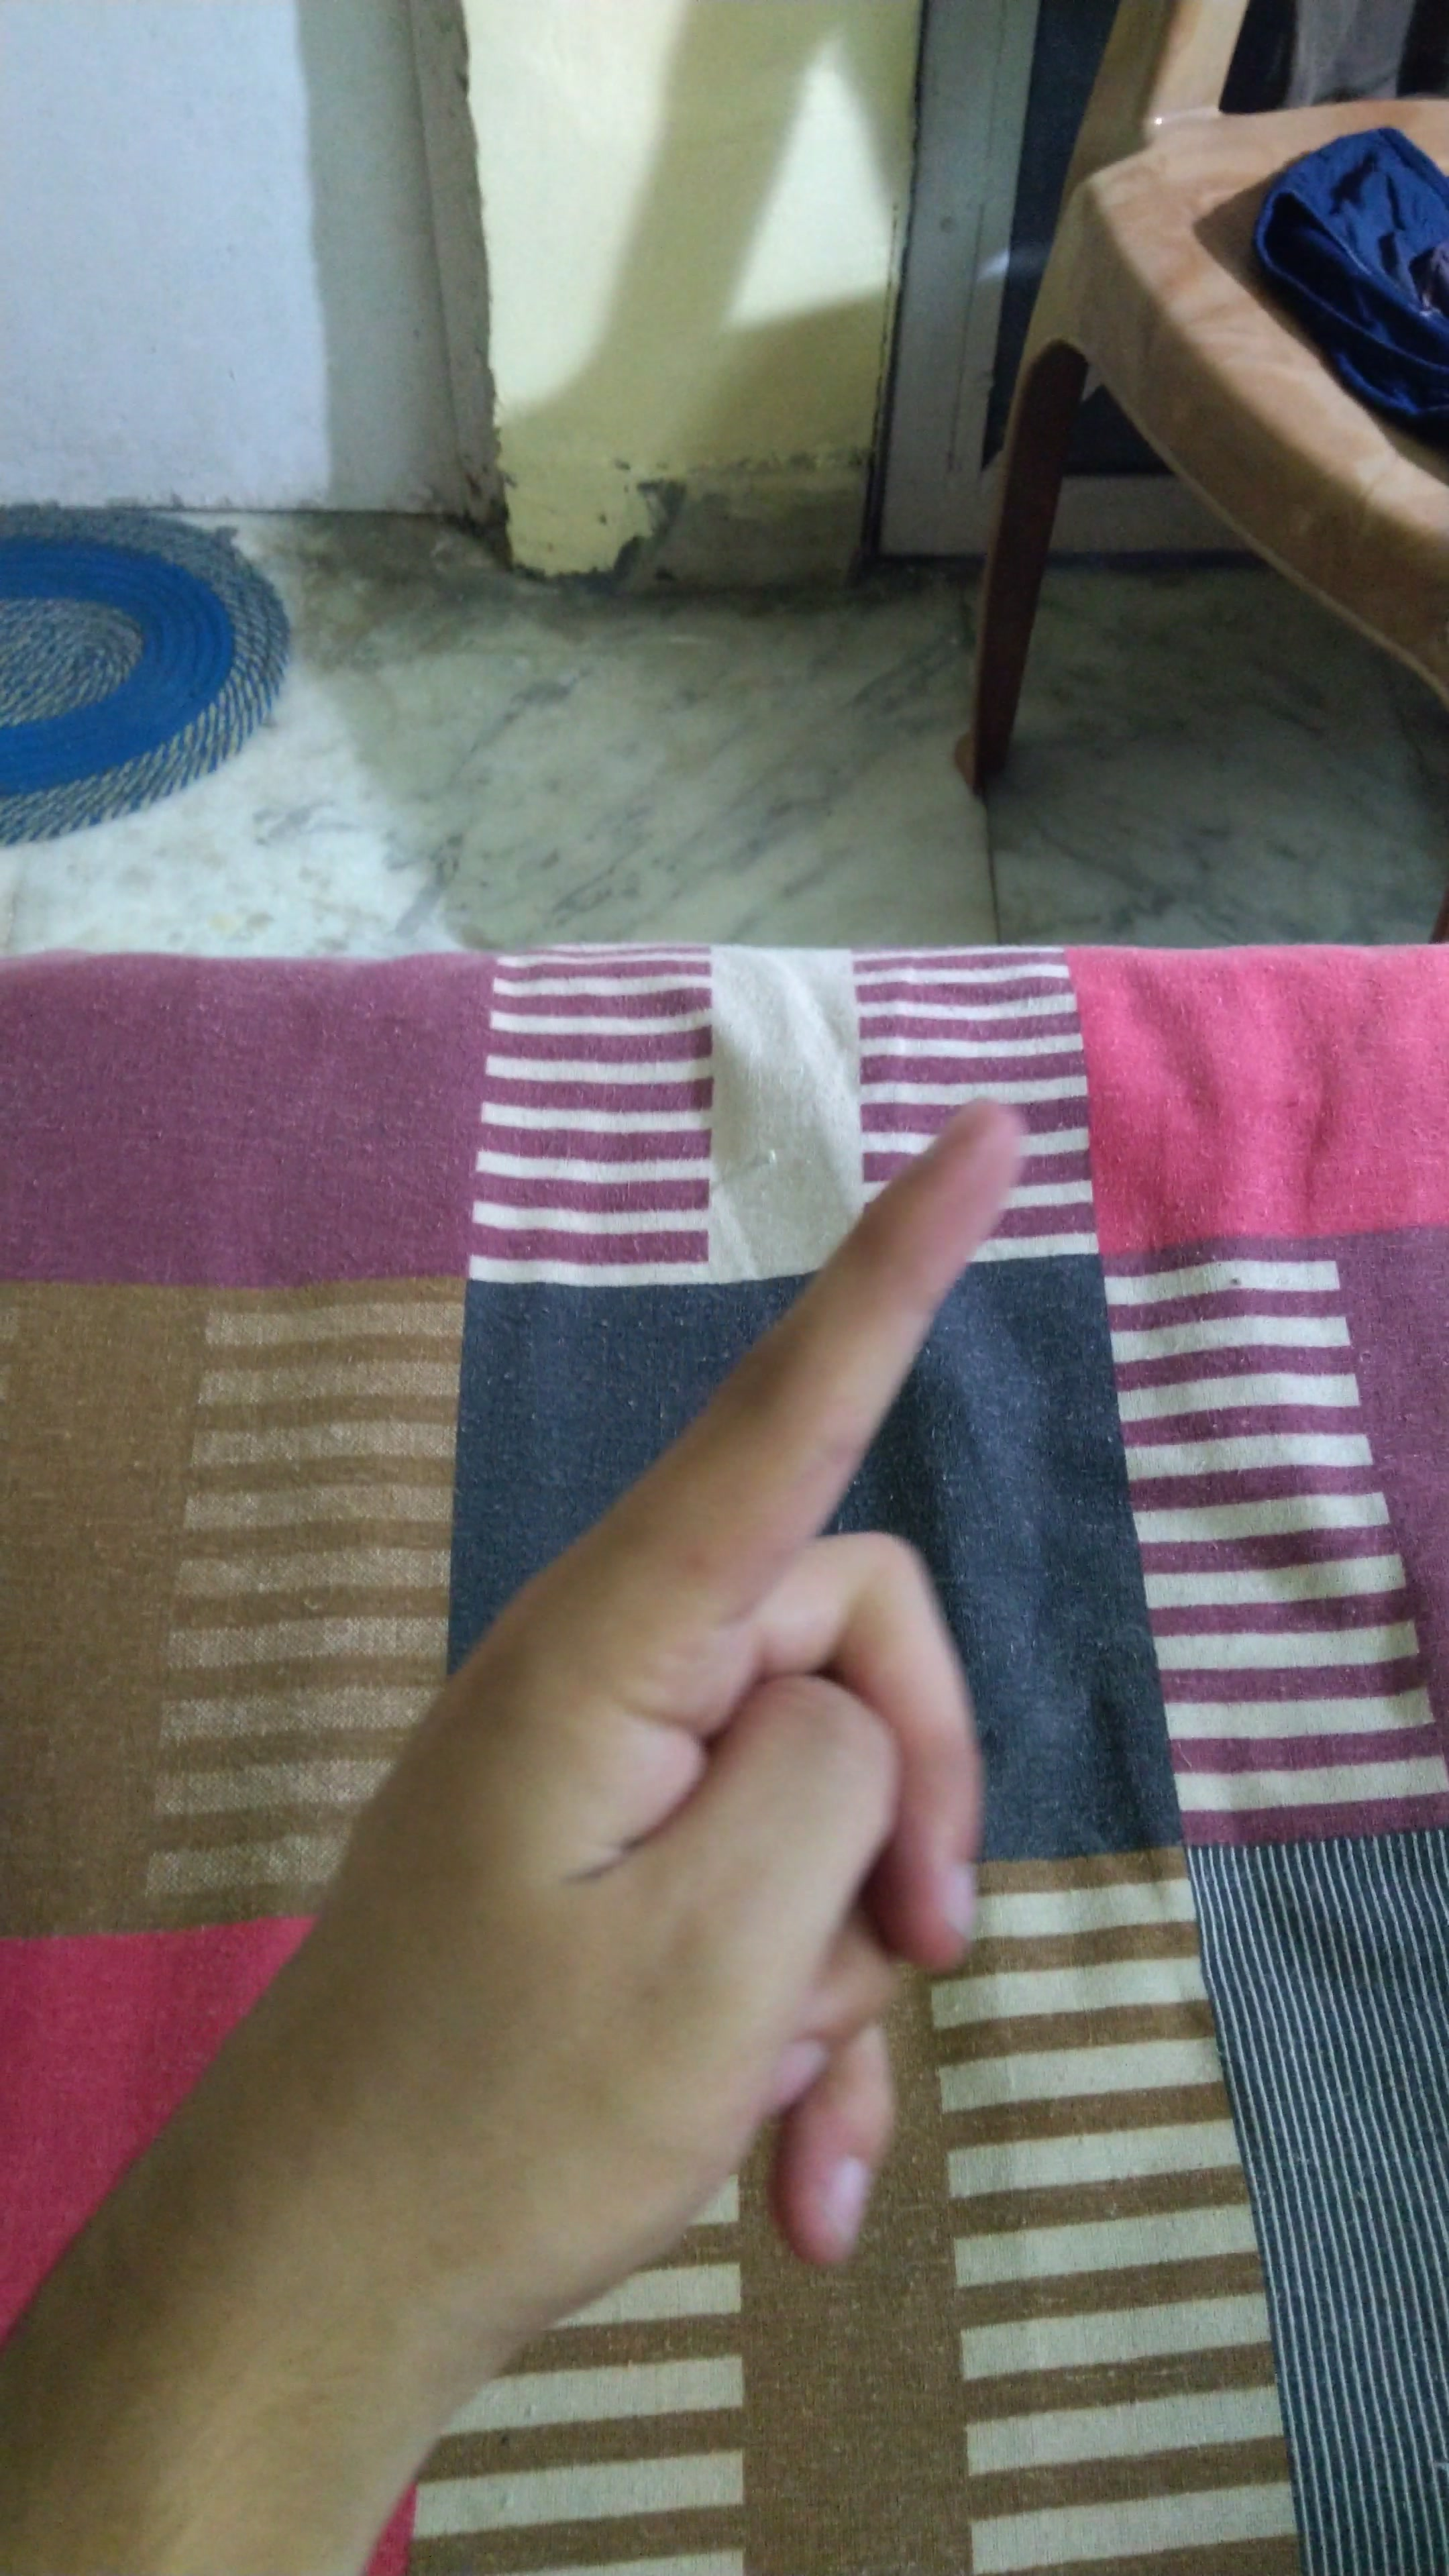hand: (315, 1054, 1120, 2358)
